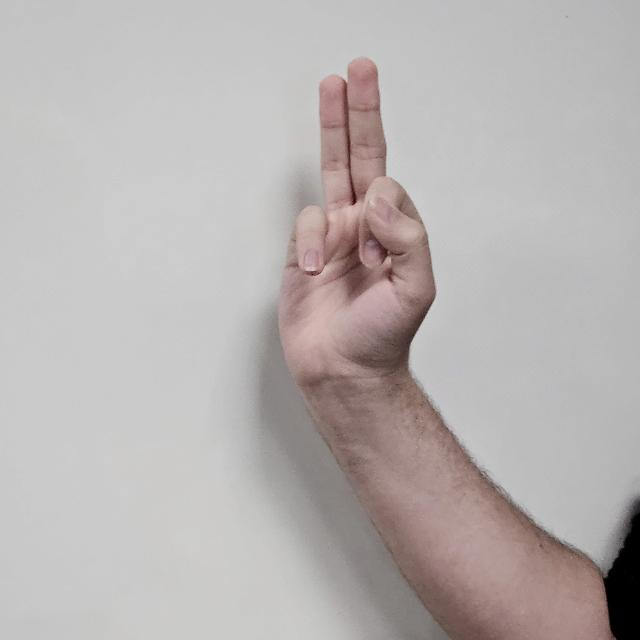R: (280, 58, 438, 404)
